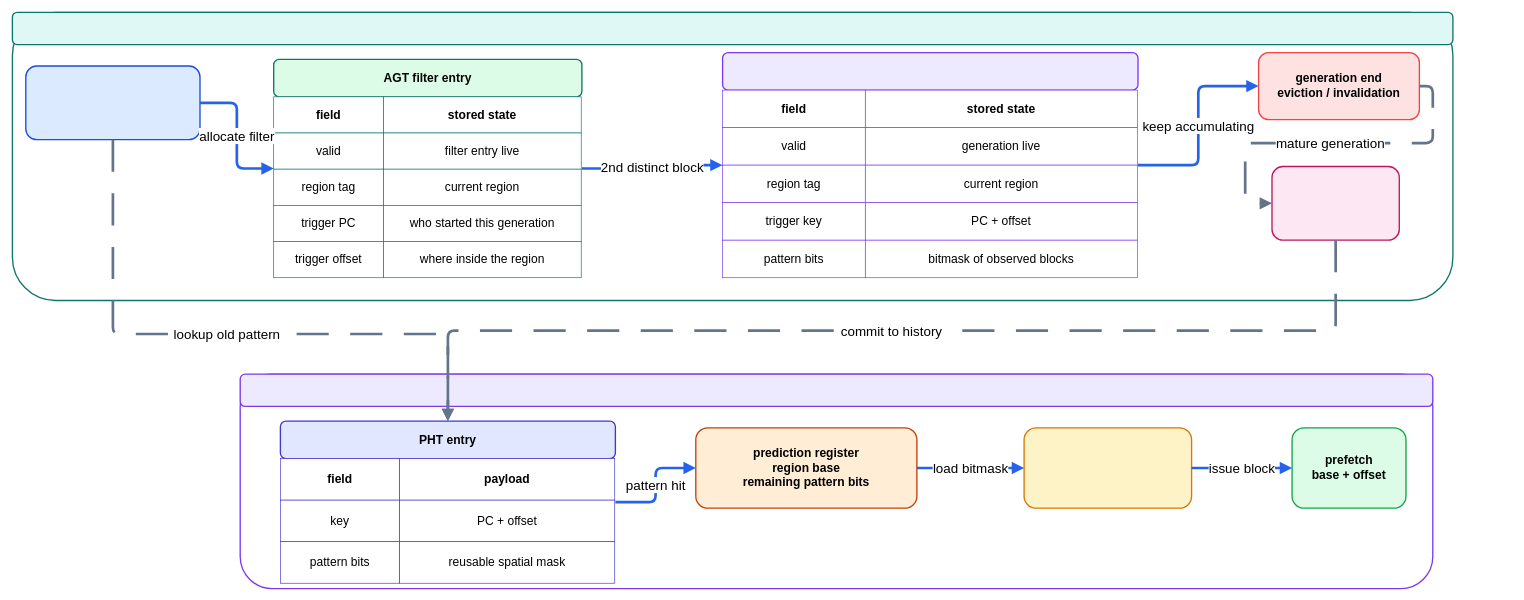
This 1524x600 diagram has some shape labels left out. The centre of each missing label's shape, as x and y in pixels:
AGT accumulation entry: the point at 930,71
bit scan select next set bit: the point at 1107,468
Commit / Future Reuse Loop: the point at 836,390
commit mask write PHT: the point at 1335,203
Live Generation Path: the point at 732,28
trigger access PC + region offset: the point at 112,102
